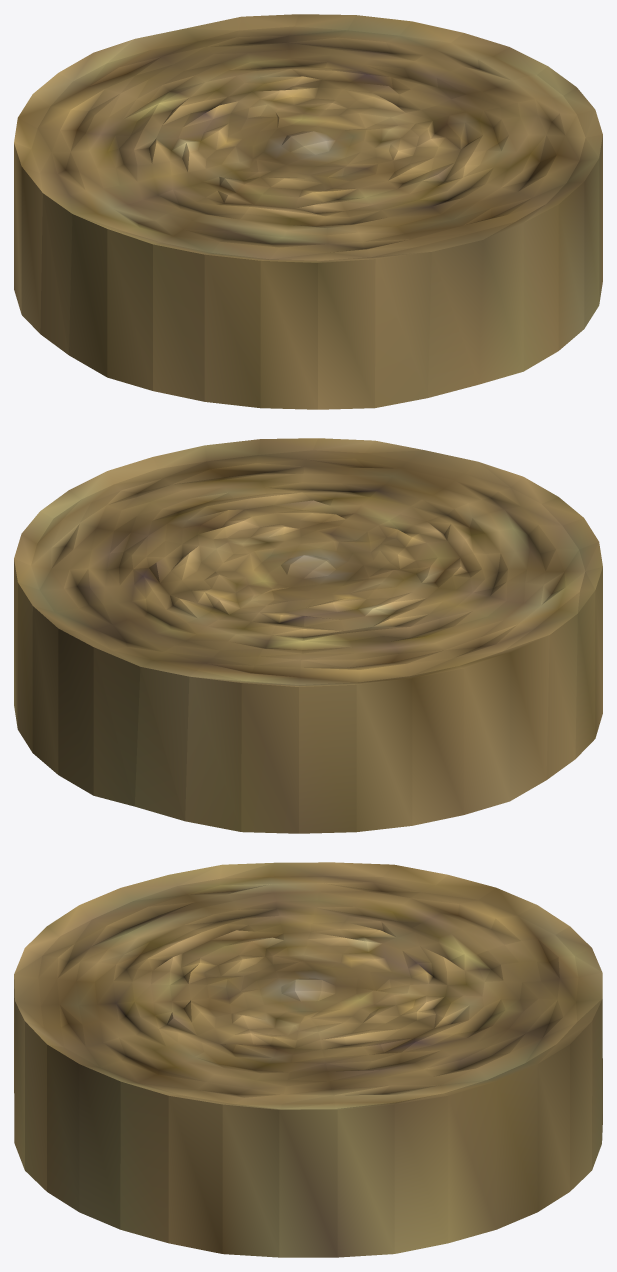
Rendered from gold-disc.gltf.
The picture shows the model from 3 angles, top to bottom: view 1: azimuth 30°, elevation 25°; view 2: azimuth 150°, elevation 25°; view 3: azimuth 270°, elevation 25°; orthographic projection.
Visible parts, largest first — view 1: gold-disc; view 2: gold-disc; view 3: gold-disc.
Boxes of the visible parts, box(x1,y1,x2,y2) form: gold-disc: box(14, 14, 602, 409); gold-disc: box(14, 438, 602, 833); gold-disc: box(14, 862, 602, 1257).
Bounding box in the file's own units: 0.06 × 0.0169 × 0.06.
